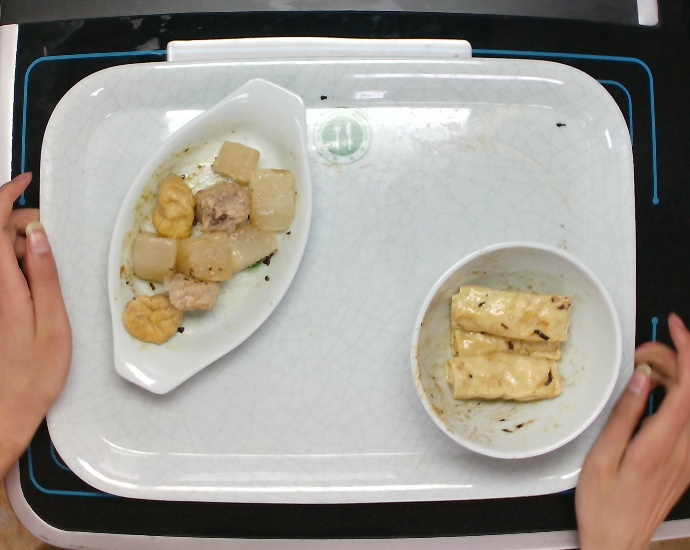JYsf-Fan_Wan: (405, 236, 625, 461)
JYsf-Yu_Pan: (102, 73, 316, 399)
